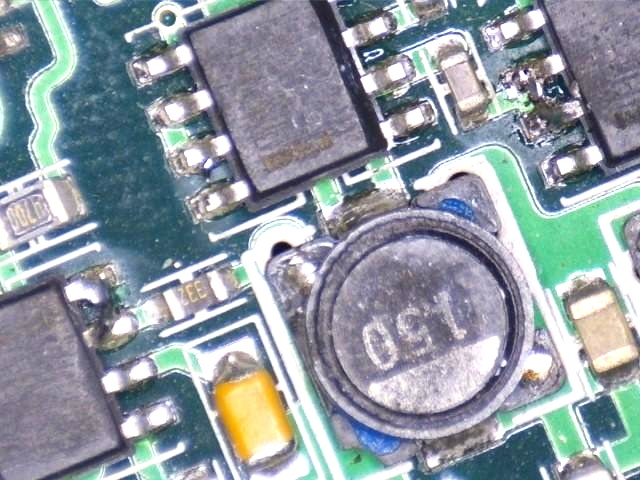pcb_defect: (171, 132, 253, 225), (501, 54, 584, 138), (64, 265, 139, 349)
